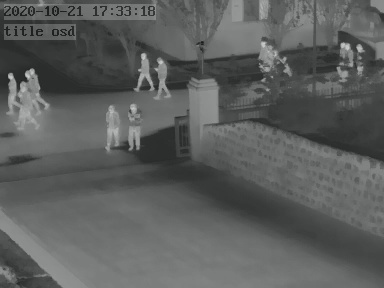person: (24, 65, 48, 110), (125, 104, 143, 153), (18, 81, 36, 130), (105, 104, 121, 152), (135, 52, 152, 95), (154, 57, 170, 99), (259, 37, 276, 76), (338, 39, 352, 79), (7, 67, 18, 115), (354, 39, 367, 76)
